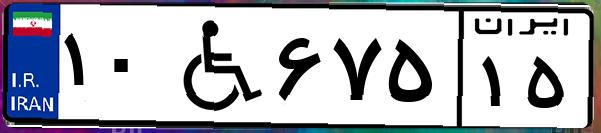0: (110, 28, 158, 98)
1: (57, 26, 110, 100), (475, 38, 525, 113)
5: (385, 28, 445, 110), (525, 38, 570, 115)
6: (270, 28, 330, 110)
7: (330, 28, 385, 110)
ژ (معلولین و جانبازان): (158, 12, 270, 120)
